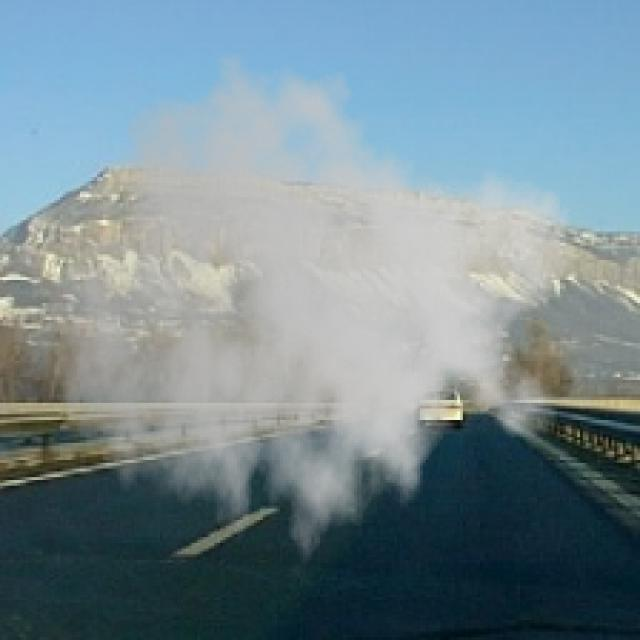smoke: (52, 37, 577, 586)
